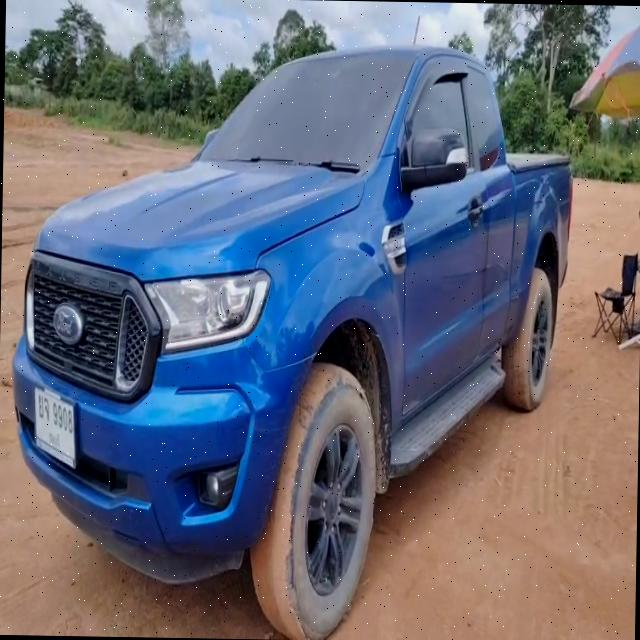Digit: (51, 399, 73, 434)
Licenseplate: (33, 384, 75, 470)
Provincename: (49, 428, 60, 450)
Thaichar: (38, 393, 49, 422)
